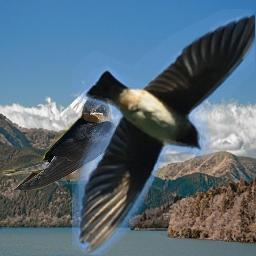Swallow: (72, 9, 255, 255), (0, 96, 118, 190)
